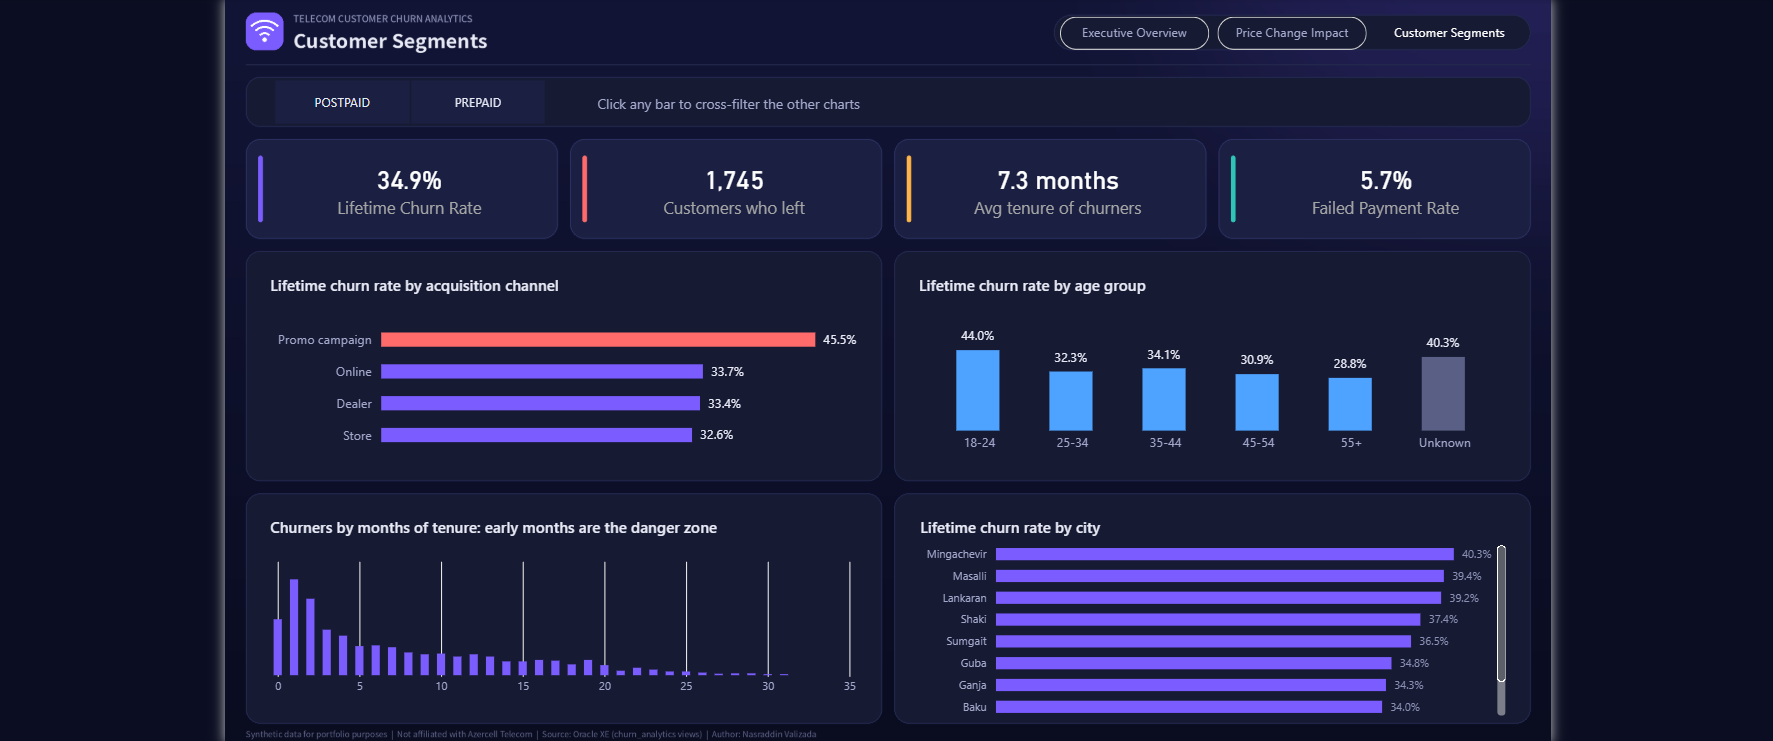

What the dashboard file says about the page in this screenshot:
{"tool":"powerbi","page":{"name":"Customer Segments","canvas":[1280,720],"ordinal":2},"visuals":[{"type":"pageNavigator","box":[805.5,17.8,448.7,32.9],"z":0},{"type":"slicer","fields":{"Values":["DimPlanType.Plan Type"]},"box":[28,77,300,46],"z":1000},{"type":"textbox","box":[359.5,76.8,860.4,39.8],"z":2000},{"type":"advanceCardE03760C5AB684758B56AA29F9E6C257B","fields":{"mainMeasure":["_Measures.Lifetime Churn Rate"]},"box":[56.3,138.6,242.3,92.7],"z":3000},{"type":"advanceCardE03760C5AB684758B56AA29F9E6C257B","fields":{"mainMeasure":["_Measures.Churners by Reason"]},"box":[370.5,138.6,242.3,92.7],"z":4000},{"type":"advanceCardE03760C5AB684758B56AA29F9E6C257B","fields":{"mainMeasure":["_Measures.Avg Tenure of Churners"]},"box":[683.4,138.6,242.3,92.7],"z":5000},{"type":"advanceCardE03760C5AB684758B56AA29F9E6C257B","fields":{"mainMeasure":["_Measures.Failed Payment Rate"]},"box":[999,138.6,242.3,92.7],"z":6000},{"type":"clusteredColumnChart","title":"Lifetime churn rate by age group","fields":{"Category":["FactCustomer.Age Group"],"Y":["_Measures.Lifetime Churn Rate"]},"box":[654,252,598,206],"z":7000},{"type":"clusteredBarChart","title":"Lifetime churn rate by acquisition channel","fields":{"Category":["DimChannel.Channel"],"Y":["_Measures.Lifetime Churn Rate"]},"box":[28,252,598,206],"z":8000},{"type":"clusteredColumnChart","title":"Churners by months of tenure: early months are the danger zone","fields":{"Category":["FactCustomer.TENURE_MONTHS"],"Y":["_Measures.Churners by Reason"]},"box":[28,486,598,206],"z":9000},{"type":"clusteredBarChart","title":"Lifetime churn rate by city","fields":{"Category":["DimCity.City"],"Y":["_Measures.Lifetime Churn Rate"]},"box":[654.5,485.8,596.9,222.3],"z":10000}]}

Visuals, with their boxes on the page's 1280x720 design canvas (x1, y1, x2, y2). These are canvas units, not pixel positions in the 1773x741 screenshot, which may show the page scaled, cropped or inside an application window:
pageNavigator: bbox=[806, 18, 1254, 51]
slicer - DimPlanType.Plan Type: bbox=[28, 77, 328, 123]
textbox: bbox=[360, 77, 1220, 117]
advanceCardE03760C5AB684758B56AA29F9E6C257B - _Measures.Lifetime Churn Rate: bbox=[56, 139, 299, 231]
advanceCardE03760C5AB684758B56AA29F9E6C257B - _Measures.Churners by Reason: bbox=[370, 139, 613, 231]
advanceCardE03760C5AB684758B56AA29F9E6C257B - _Measures.Avg Tenure of Churners: bbox=[683, 139, 926, 231]
advanceCardE03760C5AB684758B56AA29F9E6C257B - _Measures.Failed Payment Rate: bbox=[999, 139, 1241, 231]
"Lifetime churn rate by age group" clusteredColumnChart: bbox=[654, 252, 1252, 458]
"Lifetime churn rate by acquisition channel" clusteredBarChart: bbox=[28, 252, 626, 458]
"Churners by months of tenure: early months are the danger zone" clusteredColumnChart: bbox=[28, 486, 626, 692]
"Lifetime churn rate by city" clusteredBarChart: bbox=[654, 486, 1251, 708]
